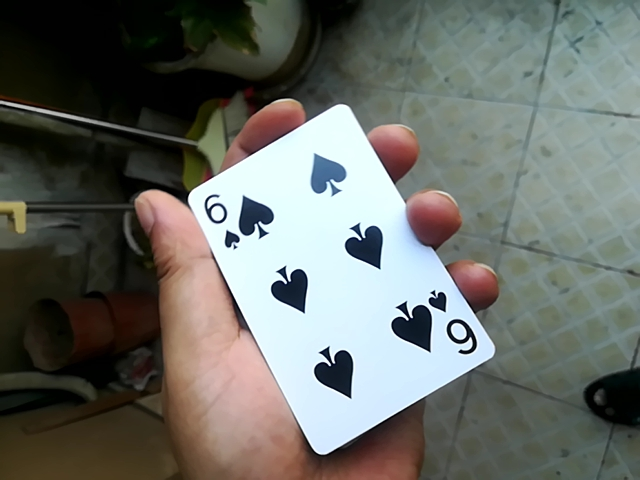ht 6: (166, 93, 464, 459)
